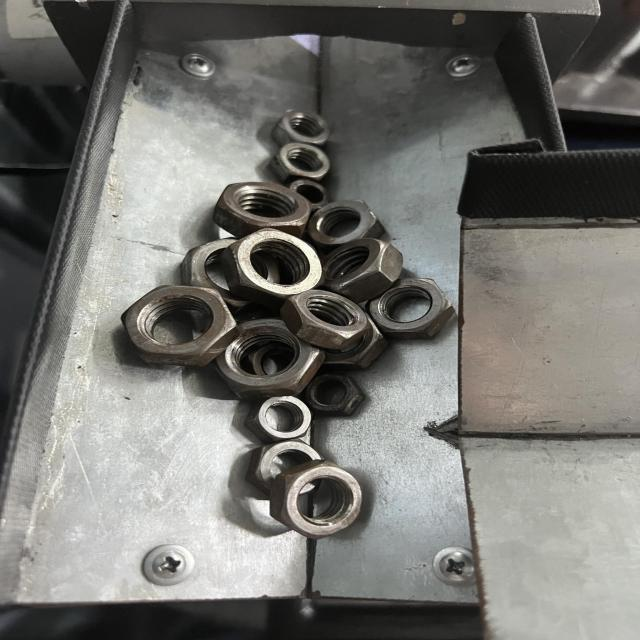nut: (120, 284, 236, 367), (272, 459, 362, 538), (224, 229, 320, 295), (274, 109, 334, 181), (245, 393, 314, 443)
